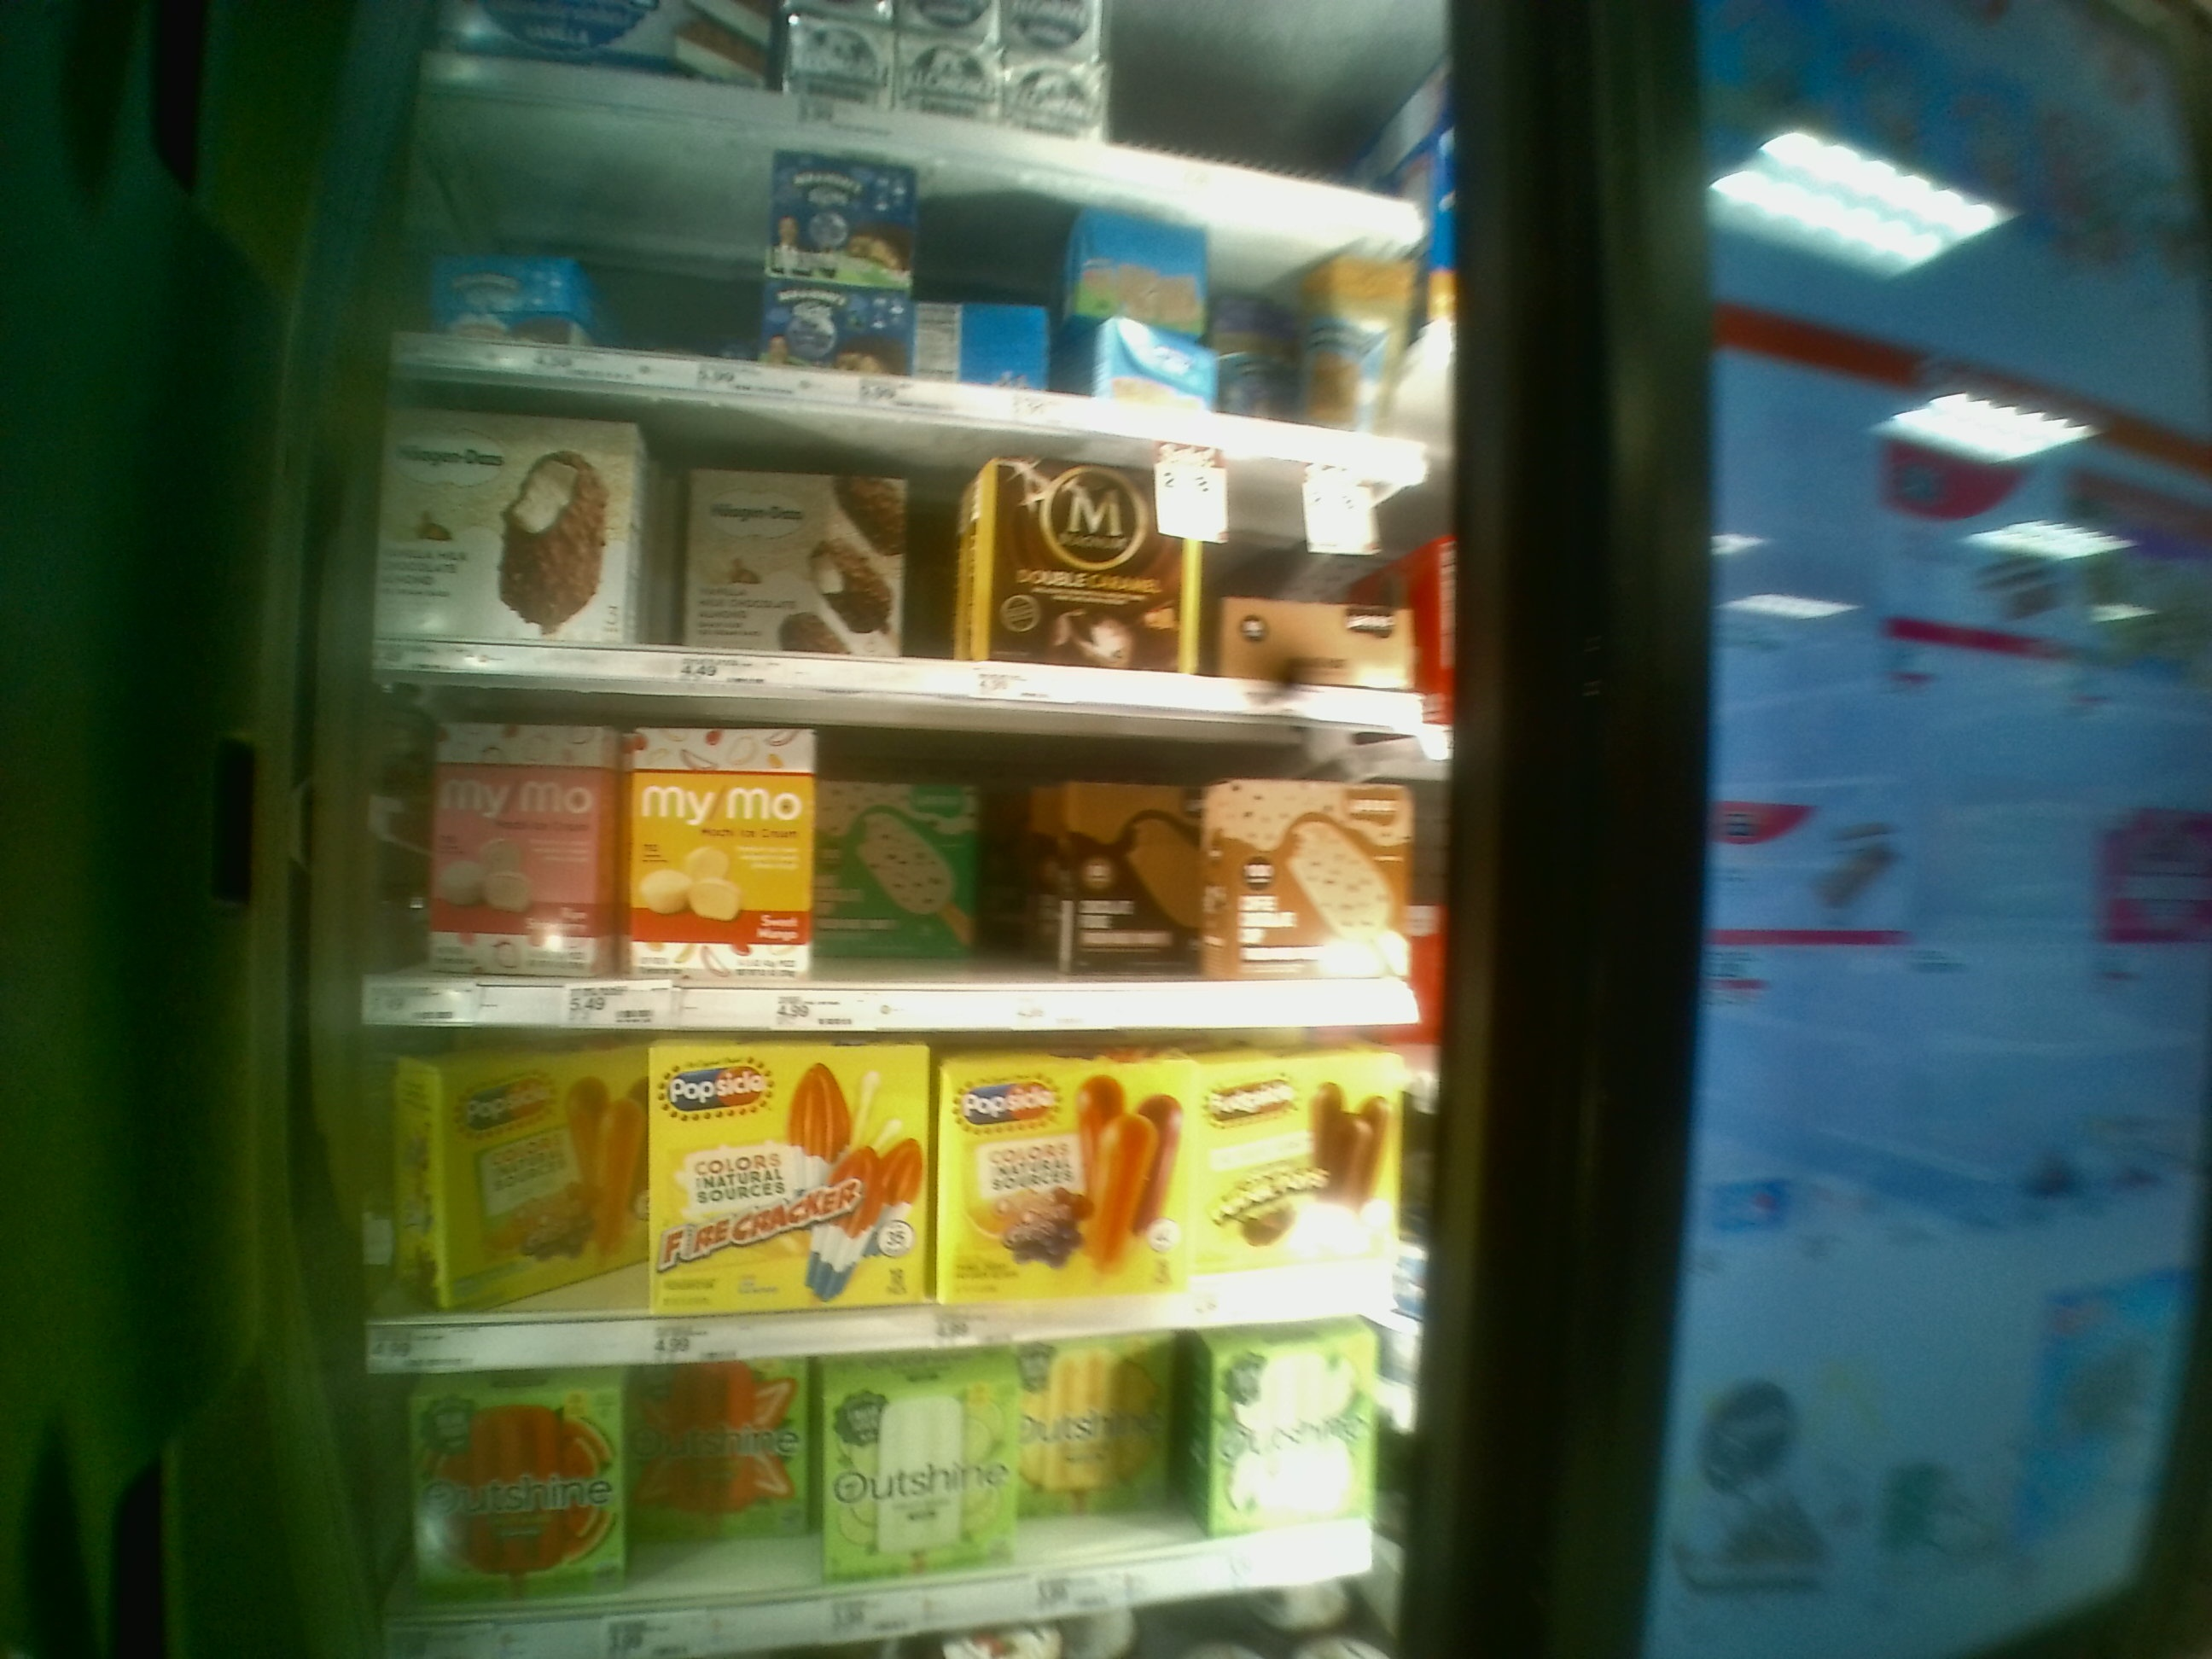ice-cream-shelf: (371, 678, 1430, 1025), (376, 1028, 1425, 1345)
